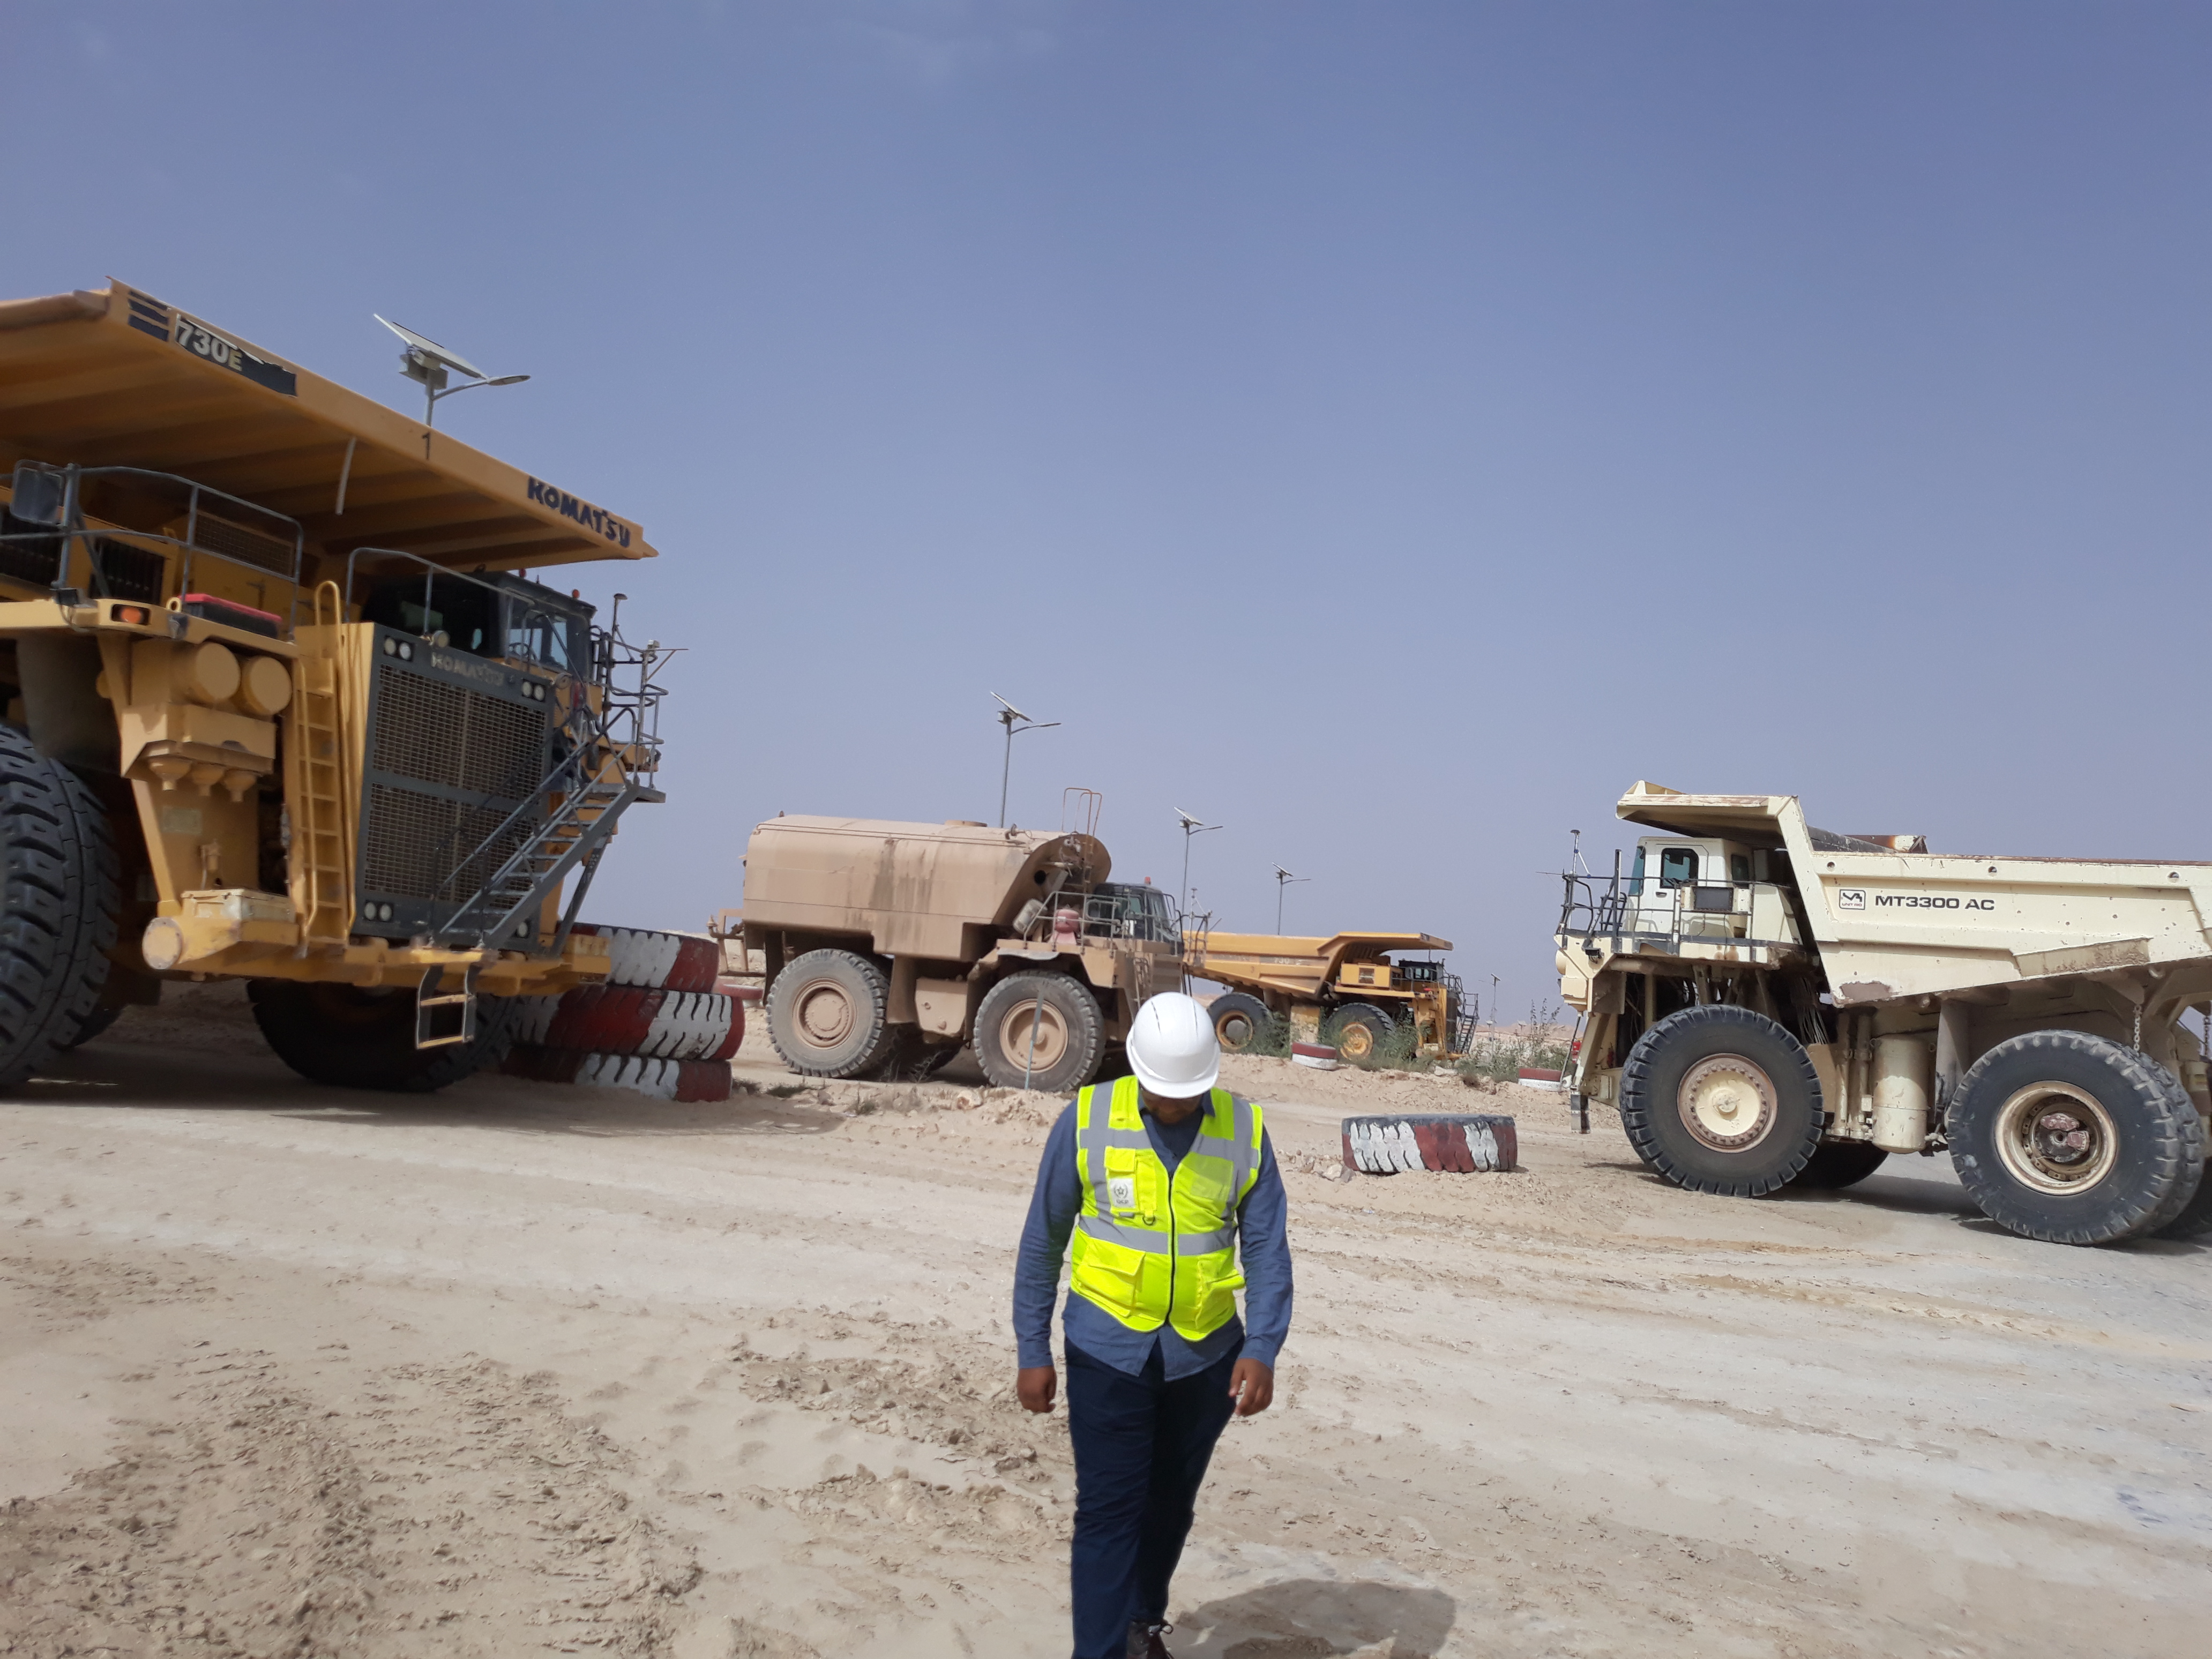camion: (1, 277, 681, 1164), (1531, 763, 2212, 1260), (1151, 905, 1484, 1081)
person: (1027, 985, 1287, 1659)
